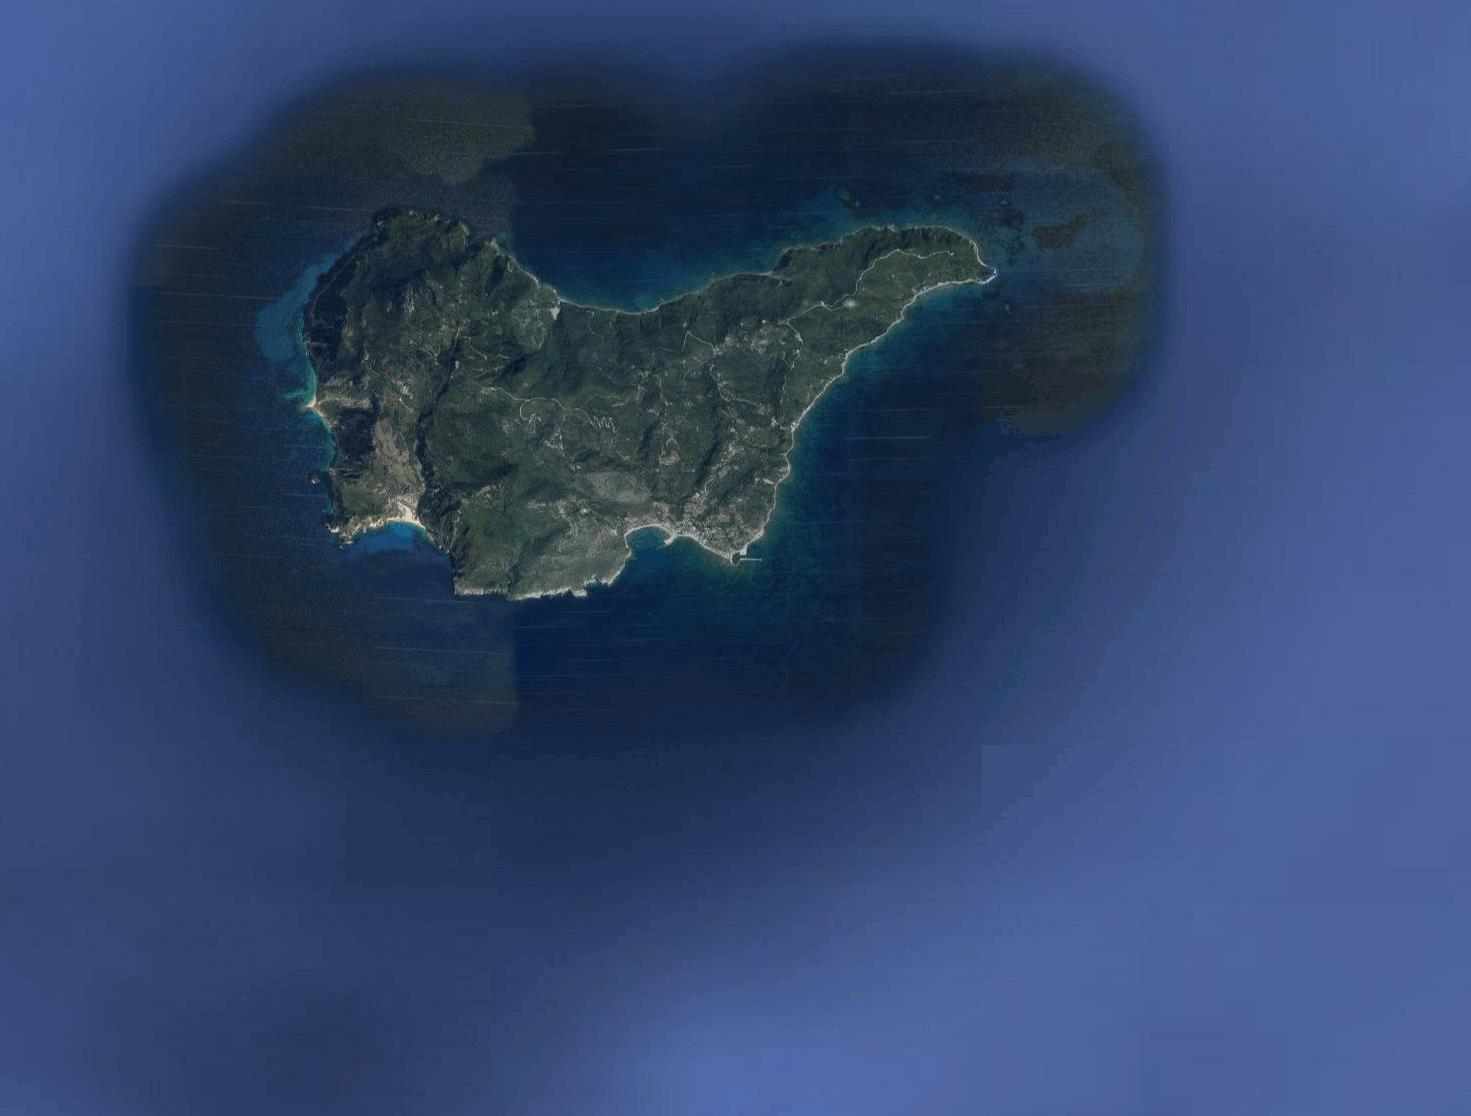harbor: (727, 547, 765, 569)
